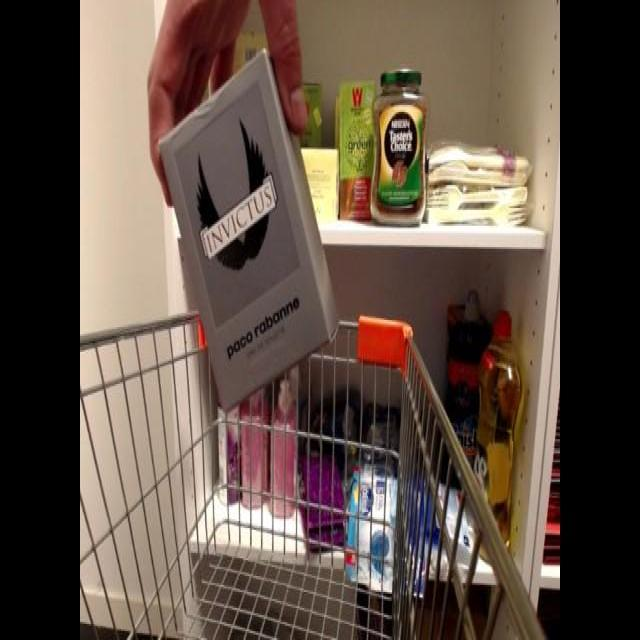Paco Rabanne: (154, 46, 352, 412)
